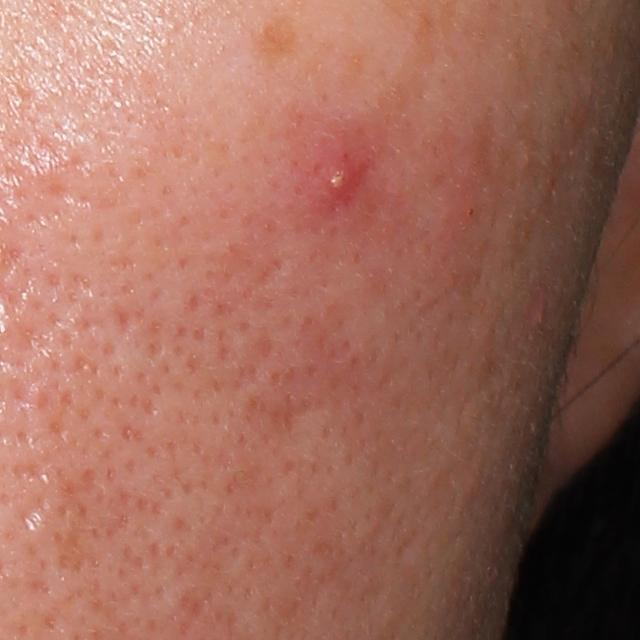melasma: (249, 11, 301, 59)
papule: (531, 303, 549, 327)
pustule: (311, 151, 367, 201)
